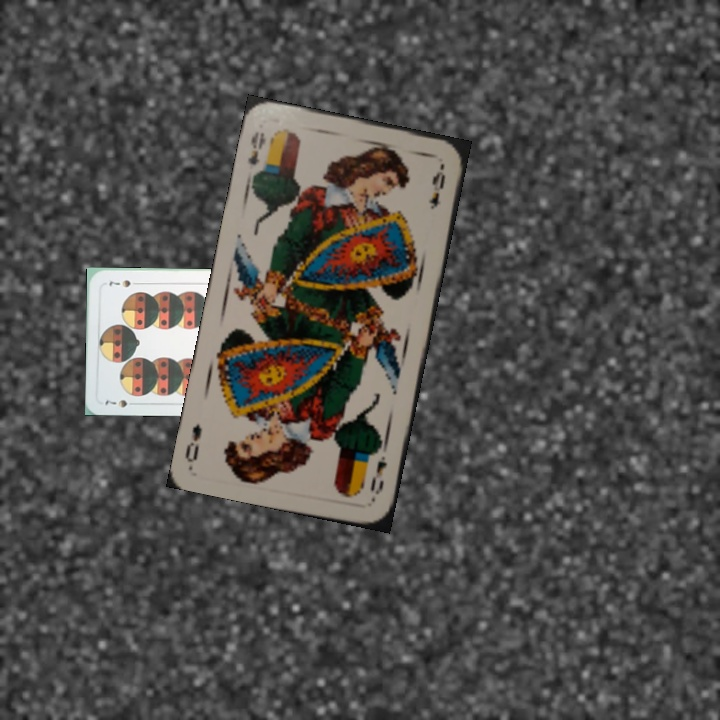EO: (366, 451, 390, 498), (243, 127, 268, 168)
S7: (101, 396, 140, 410)
